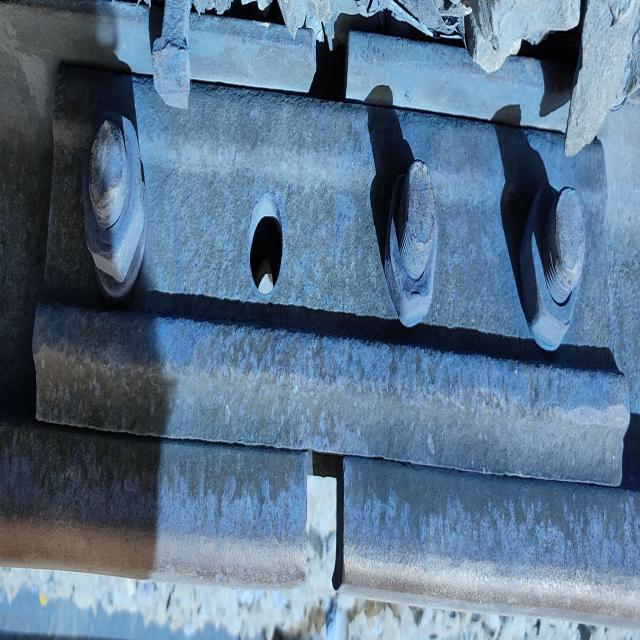railway_join_bar_defects_low: (245, 31, 362, 584)
